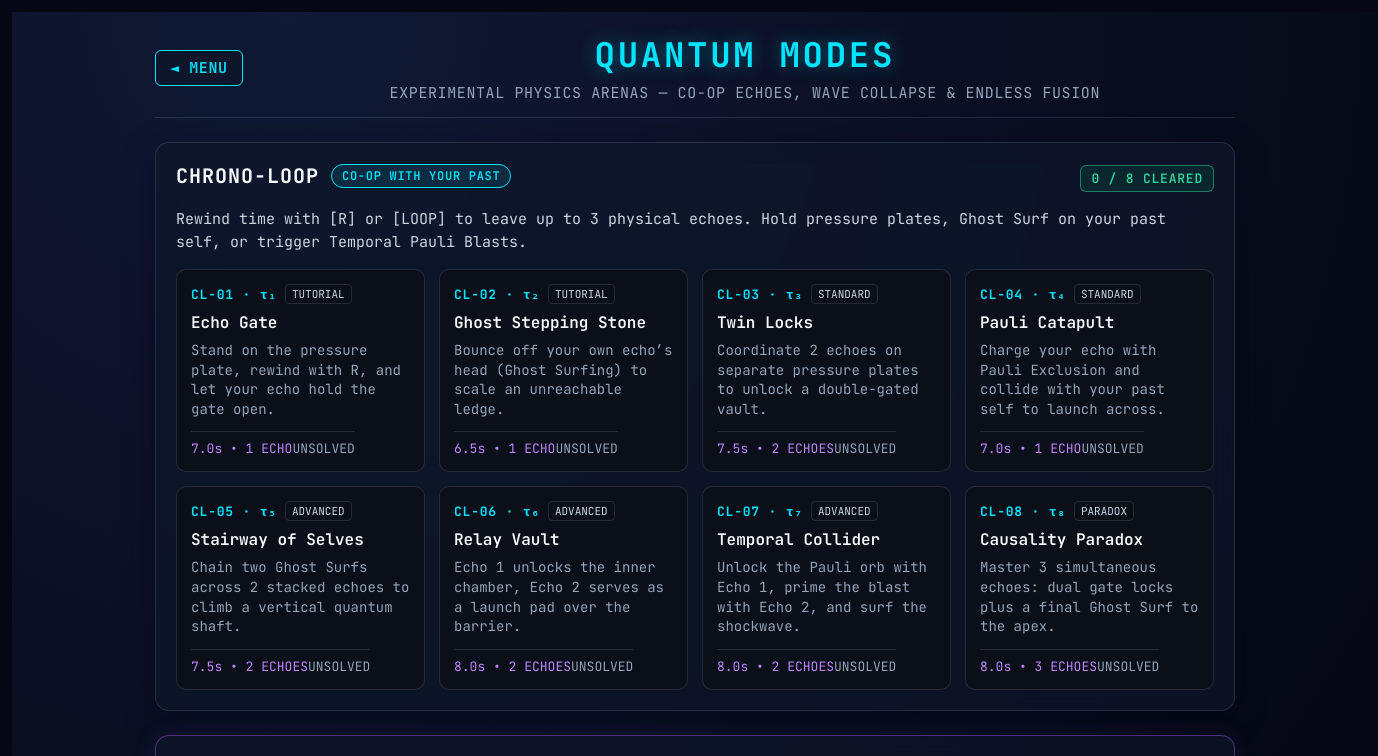
Scenario: QuantumModesHub component › loads Chrono-Loop level into sharedLevel and navigates to /game/chrono/:id on card click
This screenshot has width=1378, height=756.
Click the button with test id "chrono-card-chrono-3". click: (826, 371)
box: [702,269,951,472]
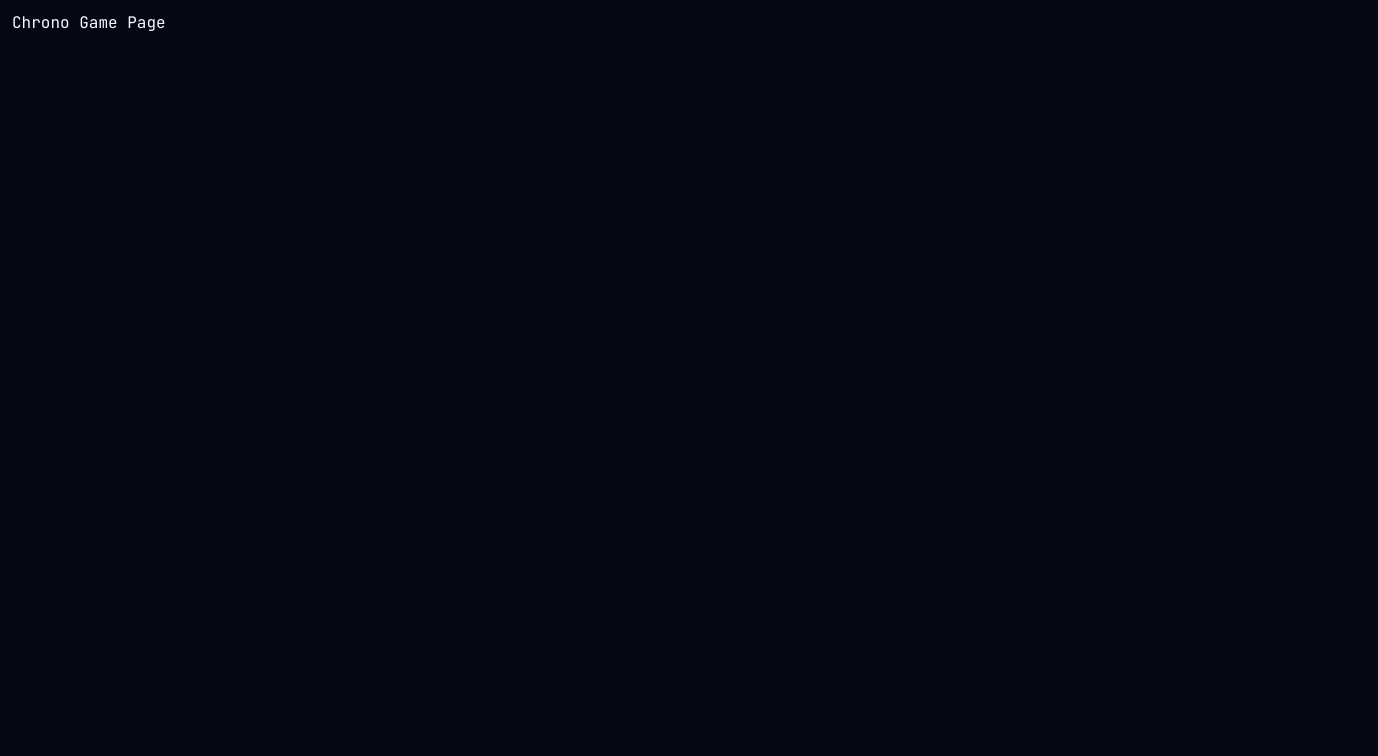
Check: the text "Chrono Game Page" is shown, box [12,12,166,33]
